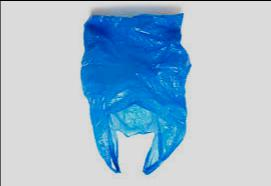Plastic: (77, 6, 191, 181)
